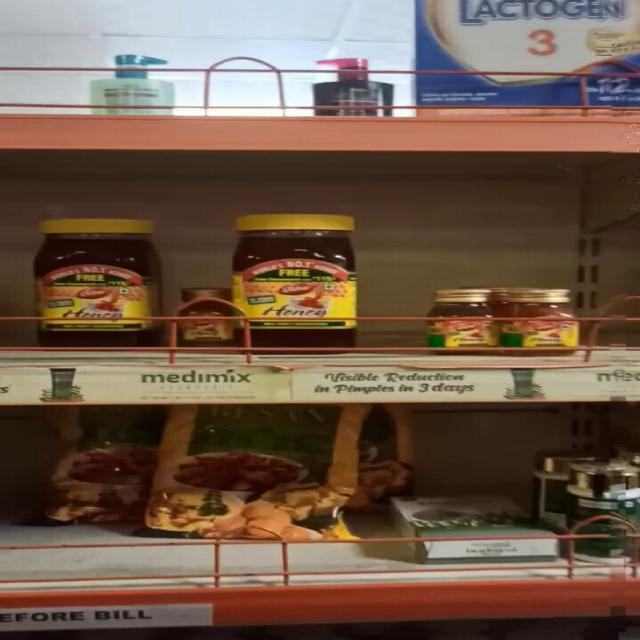Dabur Honey: (229, 212, 359, 359), (33, 218, 164, 349), (513, 290, 597, 357), (436, 288, 509, 359), (170, 296, 231, 350)
